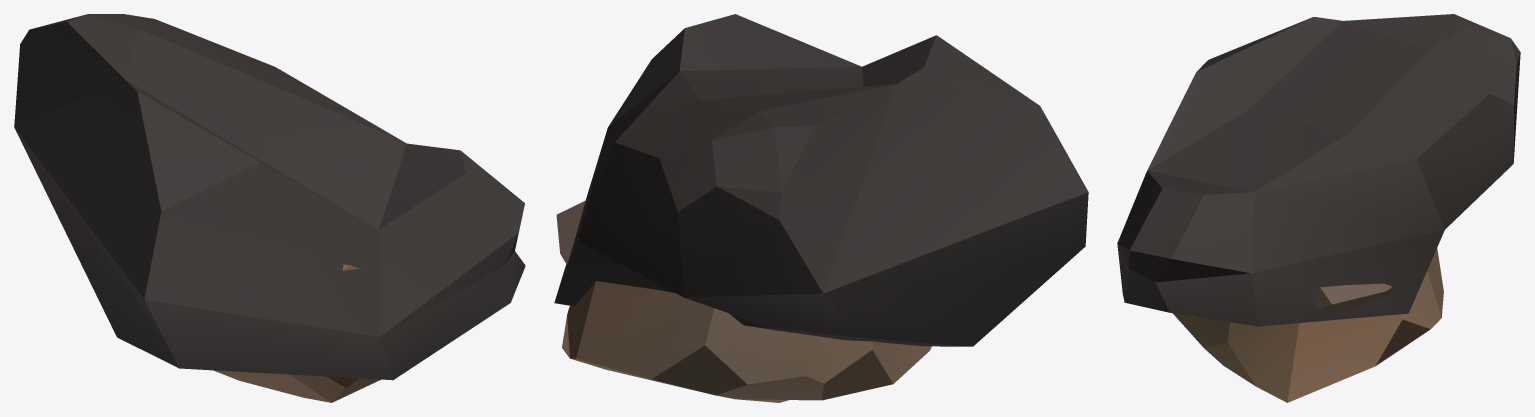
File: Rocks.glb
The picture shows the model from 3 angles, left to right: view 1: azimuth 30°, elevation 25°; view 2: azimuth 150°, elevation 25°; view 3: azimuth 270°, elevation 25°; orthographic projection. The views are drawn at different scales.
Visible parts, largest first — view 1: RockA, RockB; view 2: RockA, RockB, RockD; view 3: RockA, RockB, RockD.
Part boxes in pixels (x1=…): RockA: x1=14, y1=14, x2=525, y2=380; RockB: x1=213, y1=264, x2=380, y2=402; RockA: x1=554, y1=14, x2=1088, y2=346; RockB: x1=562, y1=281, x2=931, y2=402; RockD: x1=556, y1=200, x2=585, y2=264; RockA: x1=1117, y1=14, x2=1520, y2=326; RockB: x1=1173, y1=248, x2=1443, y2=402; RockD: x1=1314, y1=283, x2=1392, y2=311.
Size of the model in its own units: 3.22 by 2.69 by 3.47.
